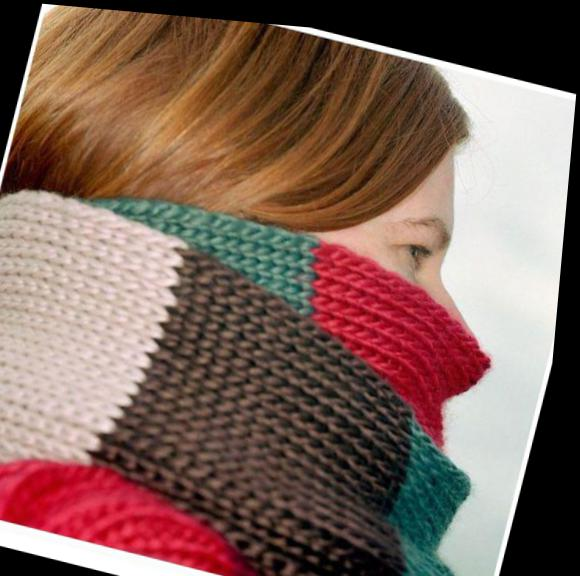WRONG: (197, 135, 532, 515)
